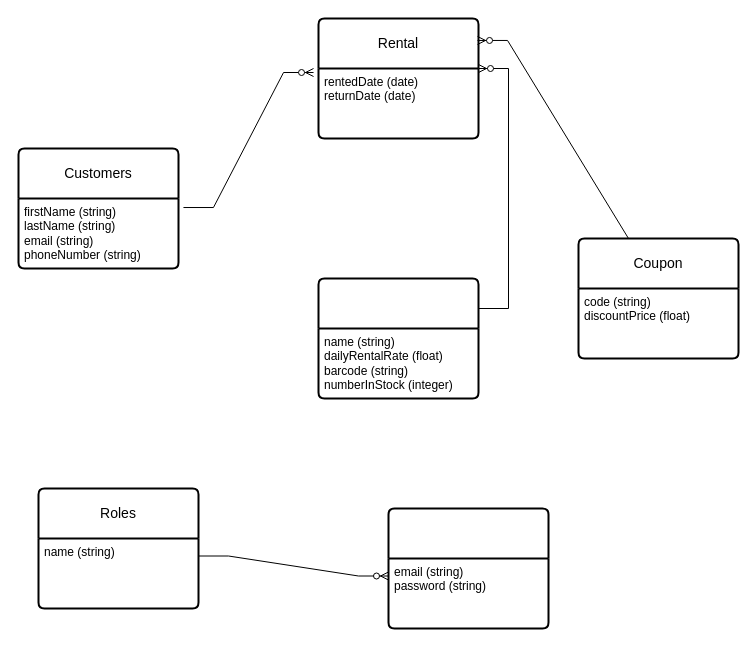
Image size: 756x646. Some labels were removed from this diagram. Here are the shapes that lost their labels. From the top down, the box of each, then its label:
(317, 277, 479, 399): Movies
(387, 507, 549, 629): Users
